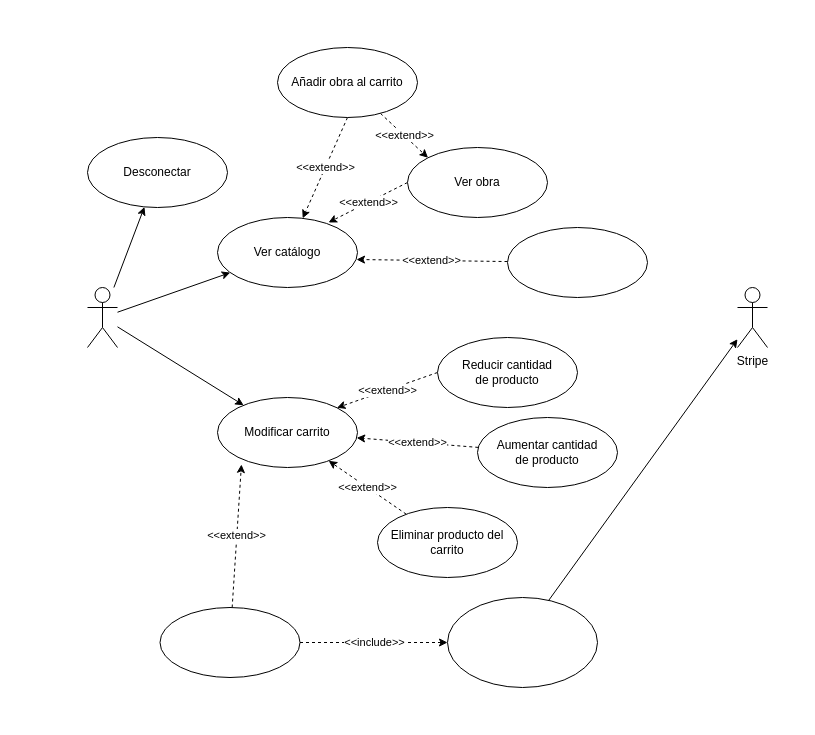
Image size: 815x735. Some labels were removed from this diagram. The box of each missing label's shape, as (x1, y1, x2, y2) in pixels:
Filtrar catálogo: (506, 226, 648, 298)
Finalizar compra: (159, 606, 300, 678)
Introducir y enviar datos para Stripe: (446, 596, 598, 688)
Usuario autentificado: (86, 286, 118, 348)
